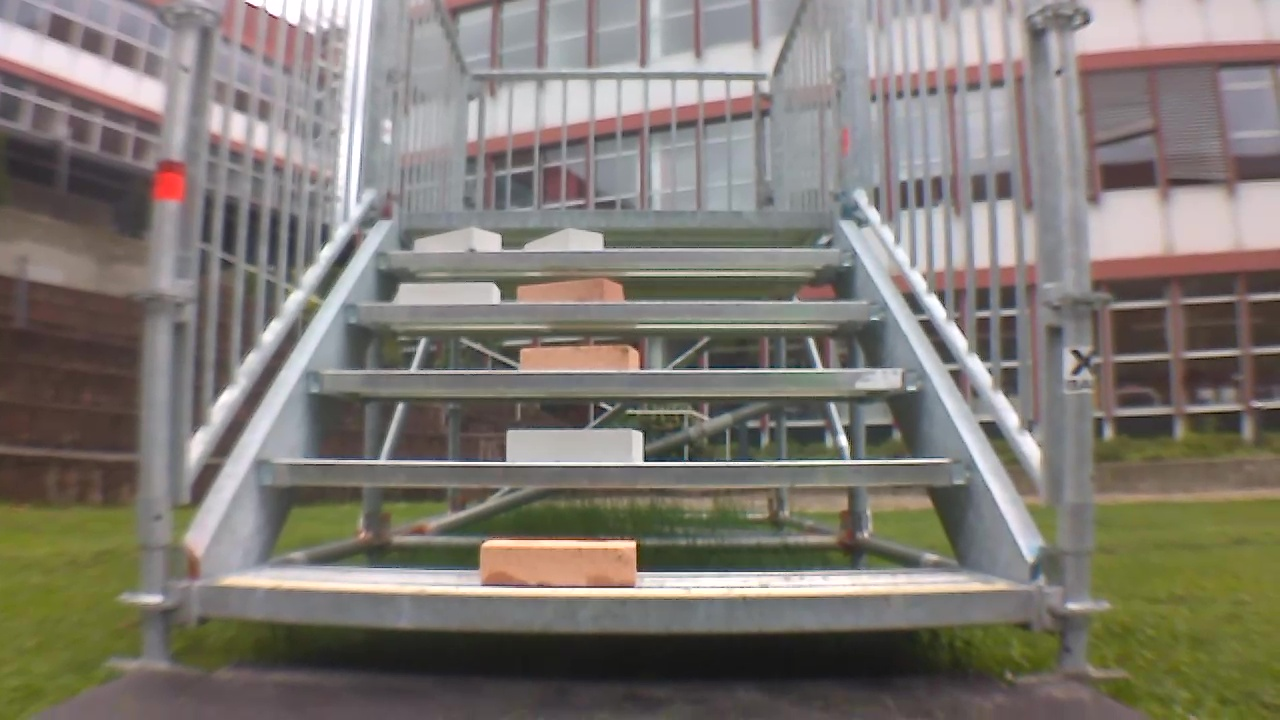brick: (481, 540, 635, 586), (507, 428, 642, 462), (523, 346, 638, 371), (518, 278, 621, 301), (415, 228, 500, 251), (400, 284, 499, 303), (525, 228, 604, 250)
edge: (197, 583, 1036, 631), (255, 458, 966, 484), (308, 368, 927, 394), (347, 300, 889, 320), (378, 248, 852, 268), (404, 210, 833, 229)
stairs: (117, 2, 1113, 681)
steps: (184, 206, 1041, 640)
